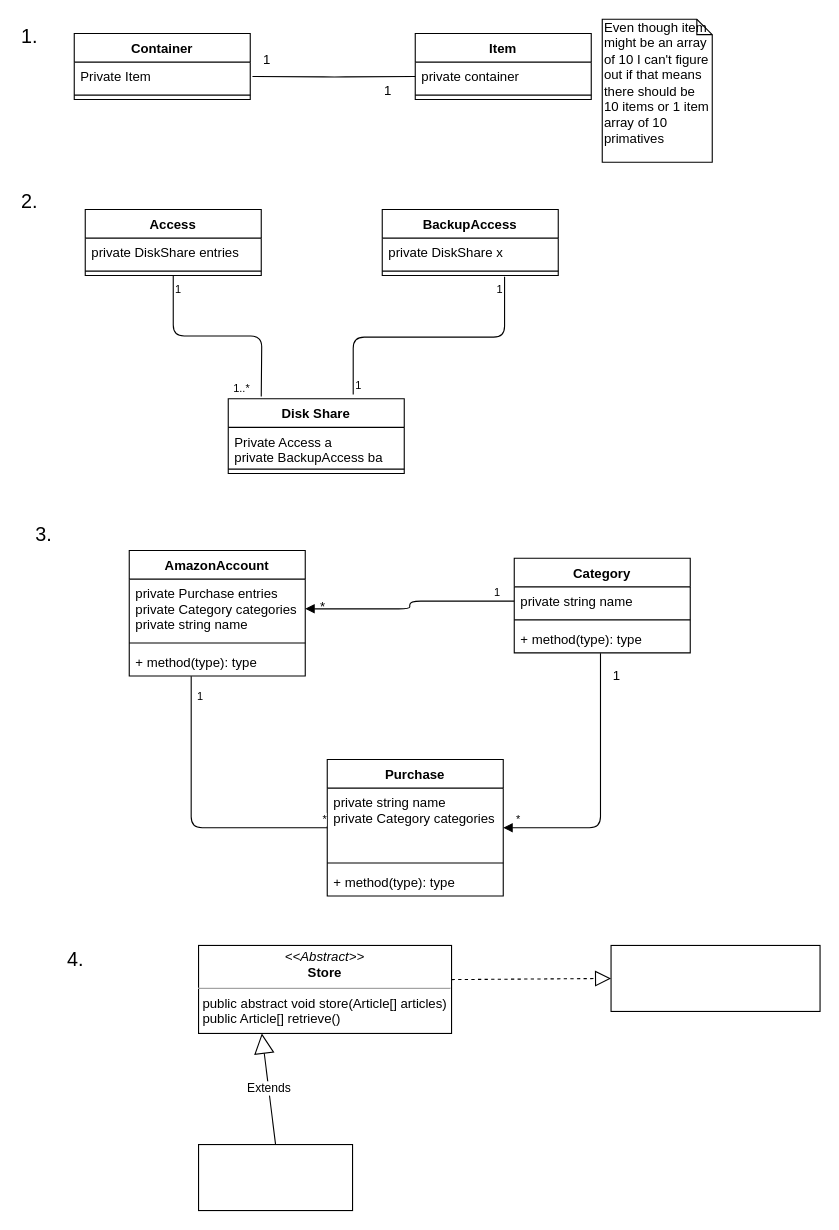
The diagram is 839 pixels wide and 1230 high, and some of its shapes have lost their labels. Each missing label, with the centre of its shape:
"<<Interface>> Accounting" goes at (715,977).
"MSUStore" goes at (275,1177).
